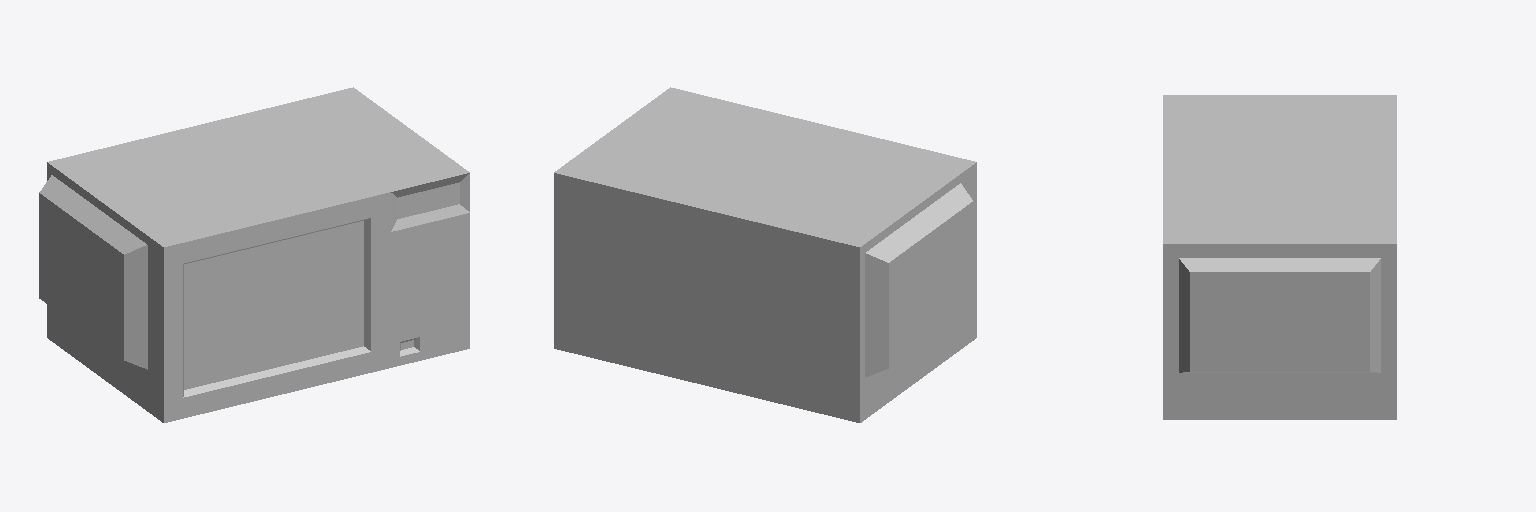
The model's file is microwave.obj.
3 views of the same model, side by side, from view 1: azimuth 30°, elevation 25°; view 2: azimuth 150°, elevation 25°; view 3: azimuth 270°, elevation 25° (orthographic).
Visible parts, largest first — view 1: Cube; view 2: Cube; view 3: Cube.
Part boxes in pixels (left/top/right/bottom): Cube: left=39, top=87, right=469, bottom=422; Cube: left=554, top=87, right=976, bottom=422; Cube: left=1163, top=95, right=1396, bottom=419.
Bounding box in the file's own units: 6.02 × 3 × 3.61.